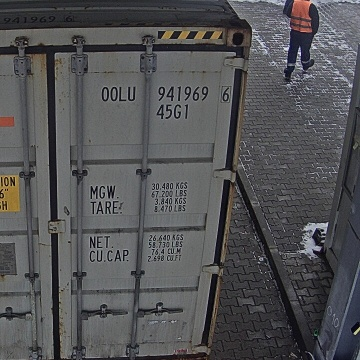serial_id: (101, 86, 229, 101)
